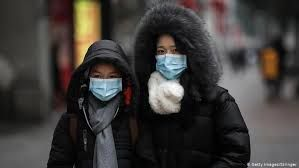with-mask: (81, 58, 129, 104), (151, 28, 190, 82)
